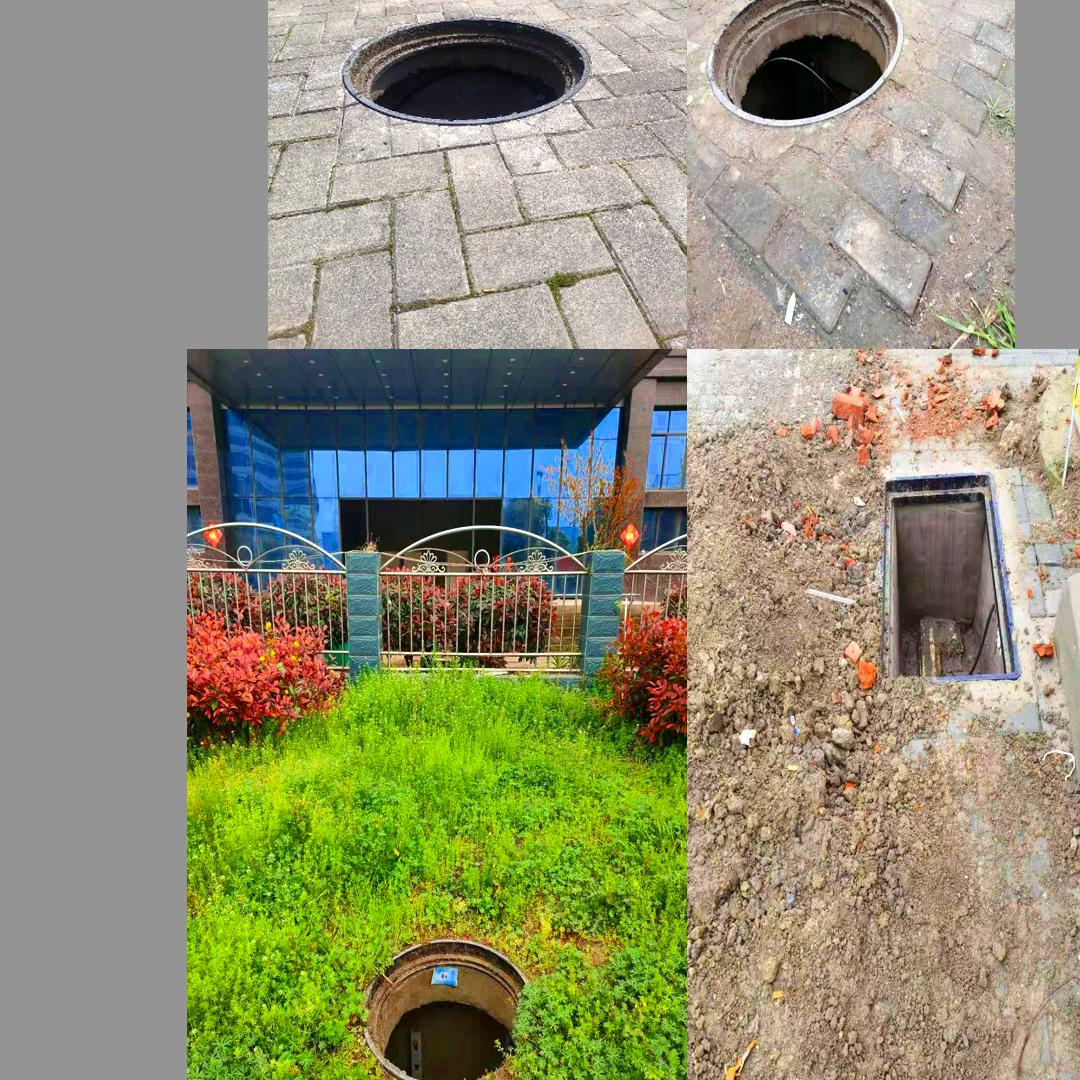lose: (871, 467, 1023, 694), (337, 20, 592, 128), (362, 935, 537, 1080), (707, 0, 903, 124)
